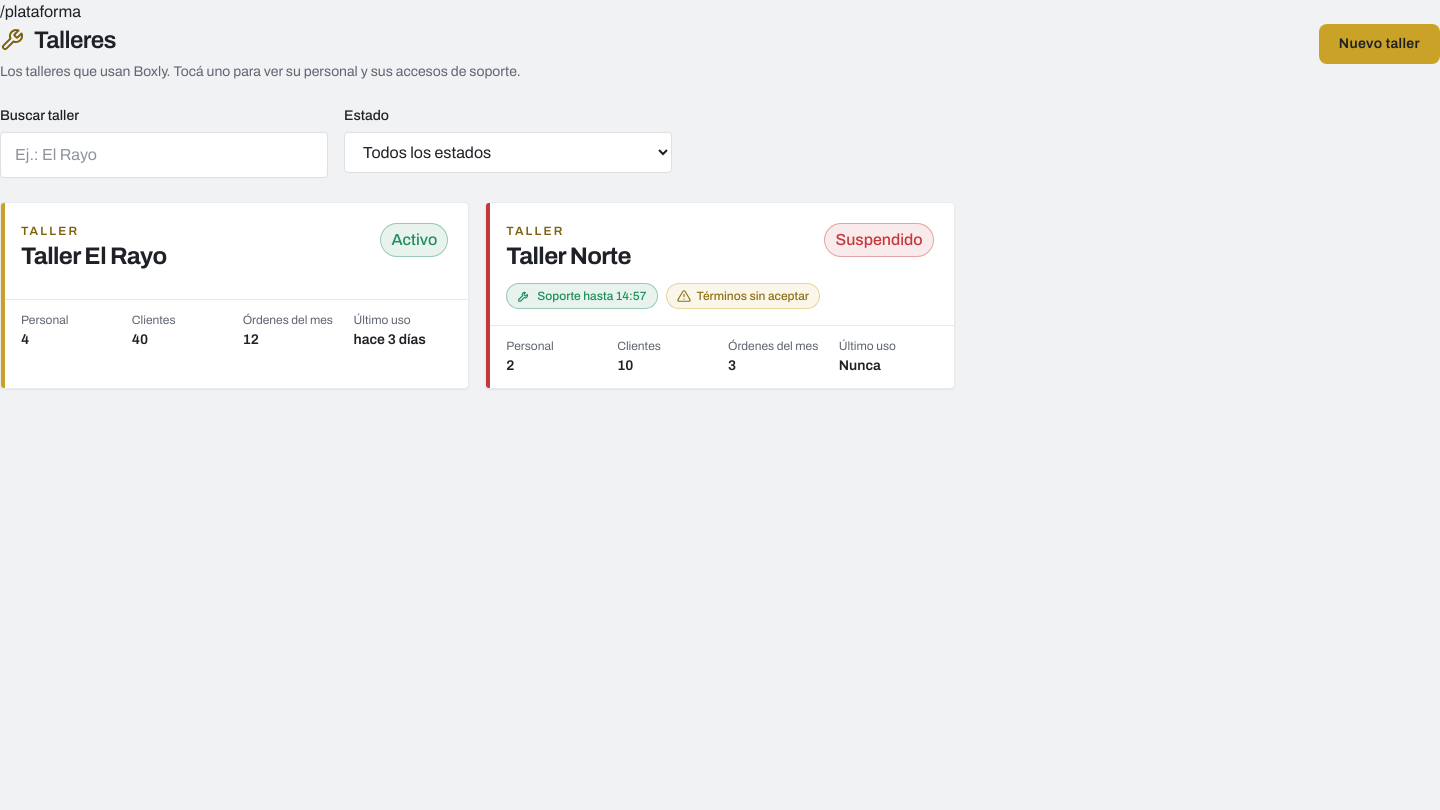
Test: Plataforma › el alta como demo no pide los planes a la API
The width and height of the screenshot is (1440, 810).
Expected: the heading "Taller El Rayo" is shown, x1=21 y1=241 x2=167 y2=271
Click the button "Nuevo taller".
click(1379, 44)  # box x1=1319 y1=24 x2=1439 y2=64
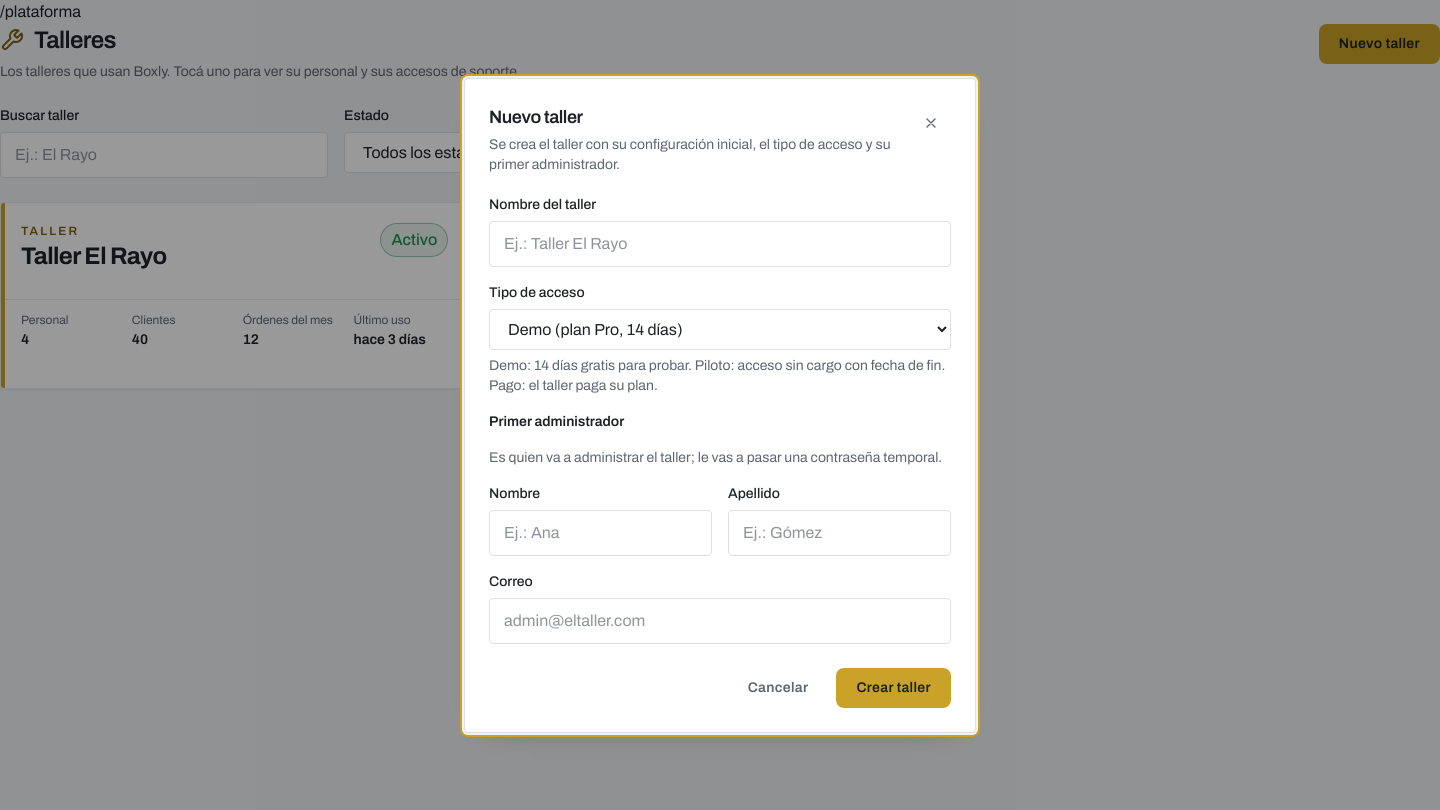
Expected: the dropdown labelled "Tipo de acceso" shows "Demo (plan Pro, 14 días)", x1=489 y1=308 x2=951 y2=350
